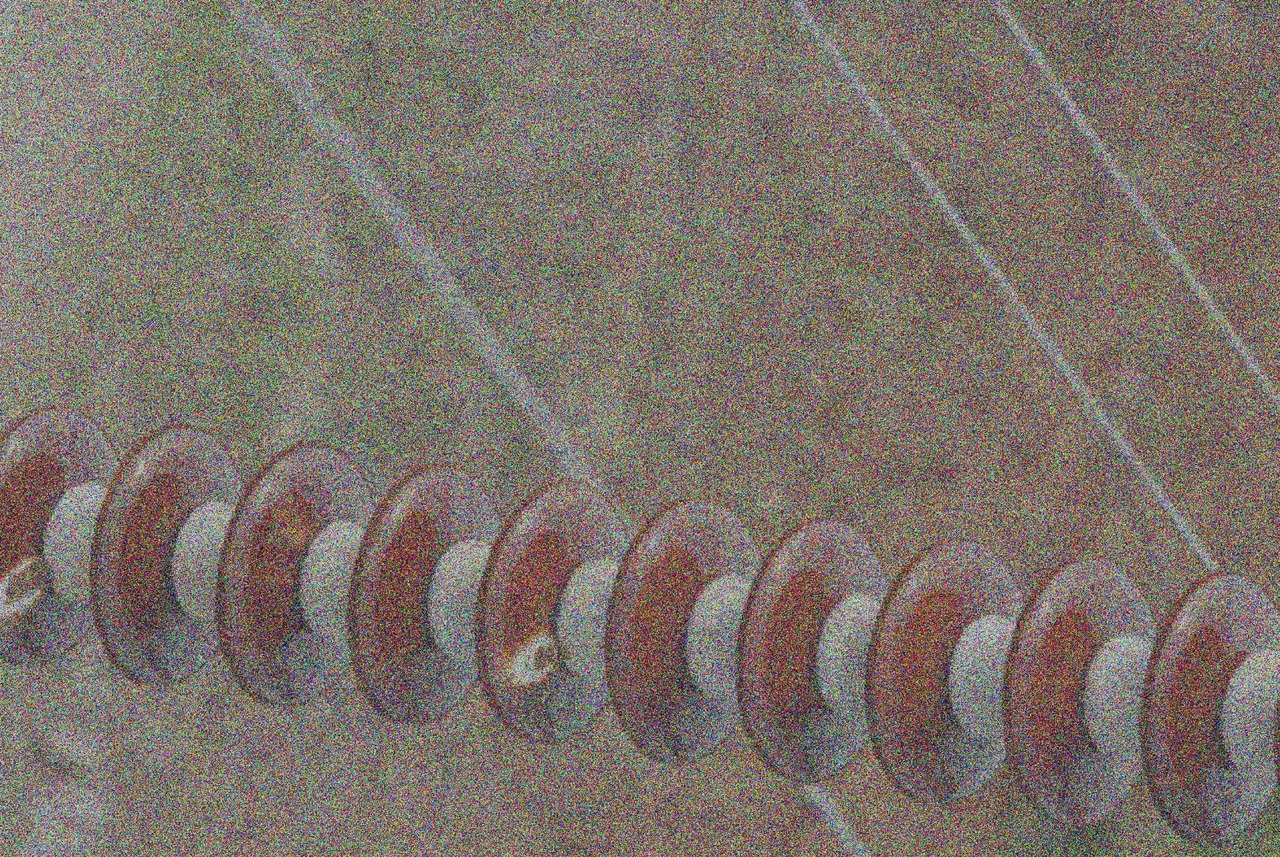Flashover damage: (463, 473, 636, 757), (215, 434, 388, 718), (345, 461, 489, 732), (0, 405, 109, 673)
No issues: (862, 523, 1028, 820), (1120, 569, 1280, 846), (730, 510, 889, 784), (604, 496, 763, 769), (1000, 555, 1159, 828), (87, 420, 227, 697)
String: (0, 389, 1279, 852)
